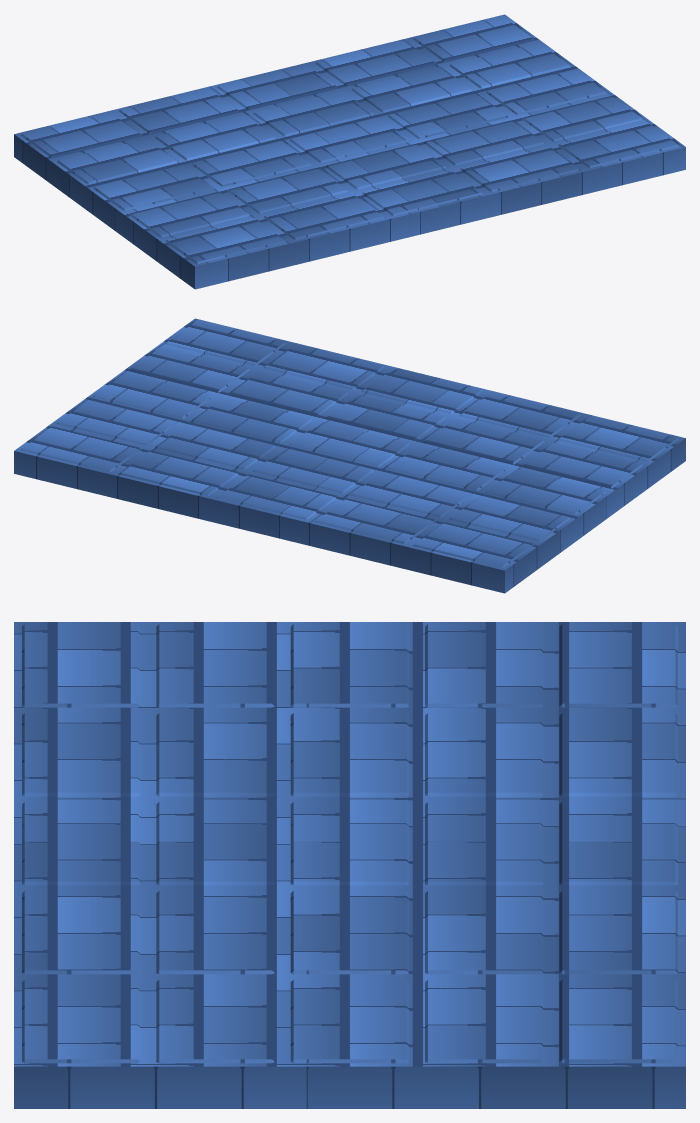
Rendered from Kit_Roof_Roof.fbx.
3 views of the same model, one above another, from view 1: azimuth 30°, elevation 25°; view 2: azimuth 150°, elevation 25°; view 3: azimuth 270°, elevation 25° (orthographic). The views are drawn at different scales.
Visible parts, largest first — view 1: Kit_Roof_Roof_LOD0; view 2: Kit_Roof_Roof_LOD0; view 3: Kit_Roof_Roof_LOD0.
Part boxes in pixels (bbox=[...]): Kit_Roof_Roof_LOD0: bbox=[14, 14, 685, 289]; Kit_Roof_Roof_LOD0: bbox=[14, 318, 685, 593]; Kit_Roof_Roof_LOD0: bbox=[14, 622, 685, 1108].
Size of what is drawn, in the model's own units: 3.6 by 0.18 by 2.3.
